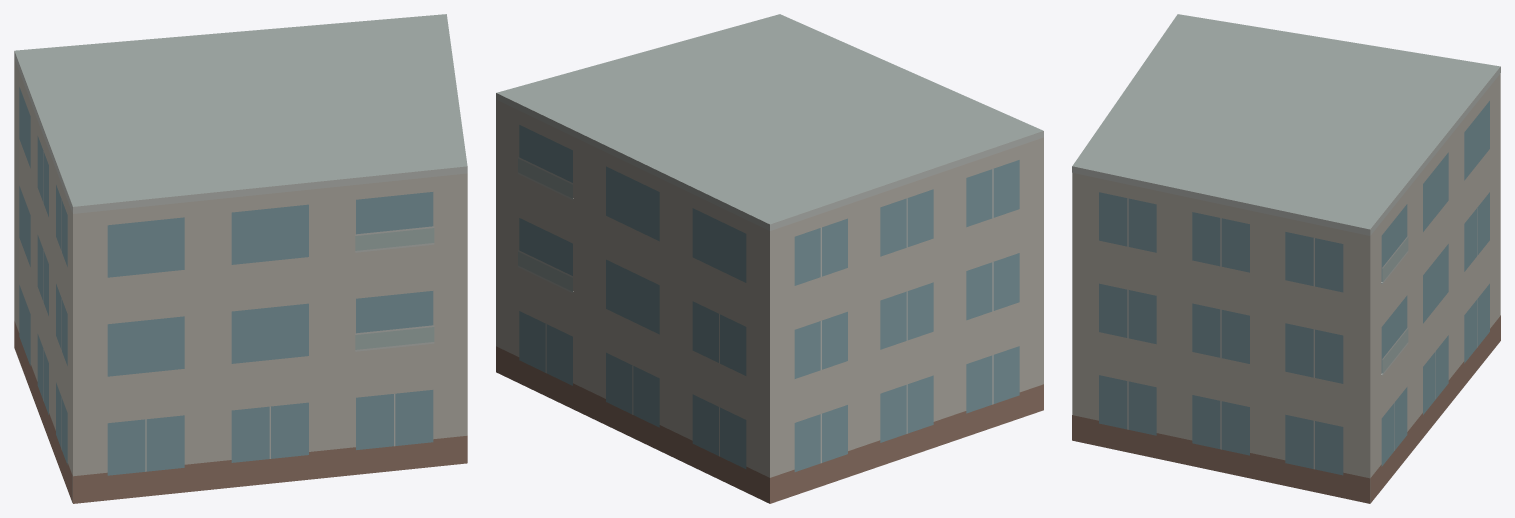
File: survey-upis-32473696.glb
The picture shows the model from 3 angles, left to right: view 1: azimuth 30°, elevation 25°; view 2: azimuth 150°, elevation 25°; view 3: azimuth 270°, elevation 25°; orthographic projection. The views are drawn at different scales.
Parts seen in each view (by area): view 1: survey-upis-32473696.tmp; view 2: survey-upis-32473696.tmp; view 3: survey-upis-32473696.tmp.
Boxes of the visible parts, x1=… form: survey-upis-32473696.tmp: x1=14, y1=14, x2=467, y2=503; survey-upis-32473696.tmp: x1=496, y1=14, x2=1043, y2=503; survey-upis-32473696.tmp: x1=1072, y1=14, x2=1500, y2=503.
Bounding box in the file's own units: 17.36 × 10.3 × 14.59.
